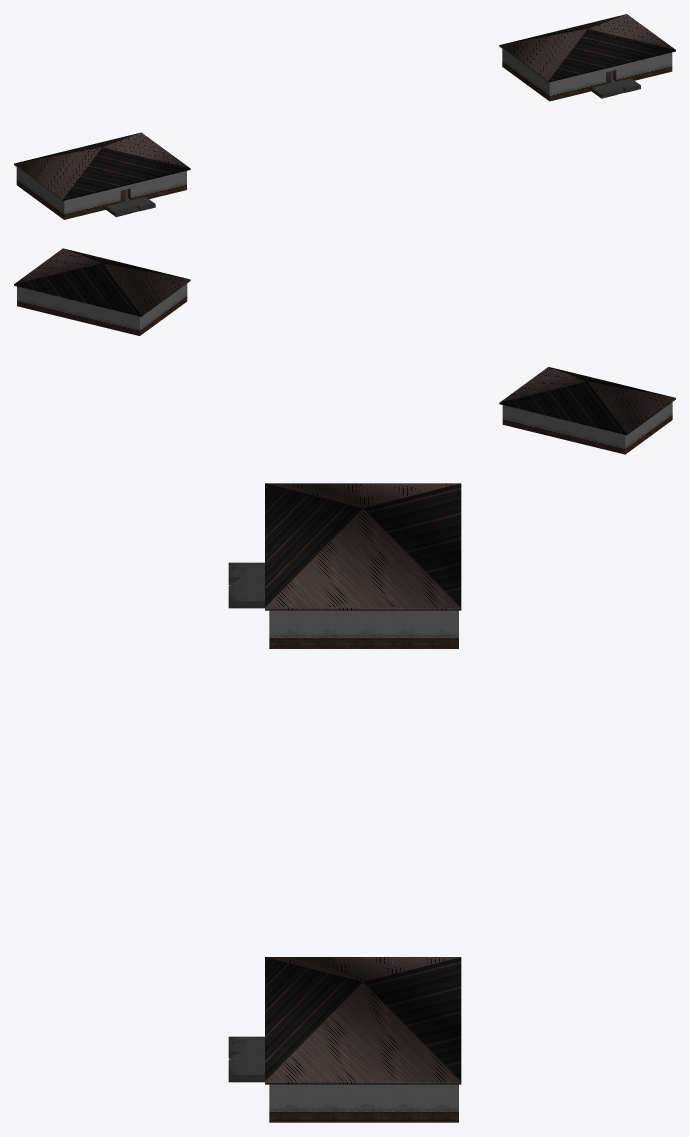
The model's file is Edificios04.fbx.
3 views of the same model, one above another, from view 1: azimuth 30°, elevation 25°; view 2: azimuth 150°, elevation 25°; view 3: azimuth 270°, elevation 25° (orthographic). The views are drawn at different scales.
Visible parts, largest first — view 1: Techo.002, Techo.001, Pared18, Pared18.001, Pared16, Pared16.001, Pared15, Pared15.001, Escaleras.004, Escaleras.005, Pared14.001, Pared14; view 2: Techo.001, Techo.002, Pared19.001, Pared19, Pared18, Pared18.001; view 3: Techo.001, Techo.002, Pared17, Pared17.001, Escaleras.004, Escaleras.005.
Part boxes in pixels (left/top/right/bottom): Techo.002: left=14, top=132, right=190, bottom=200; Techo.001: left=499, top=14, right=675, bottom=82; Pared18: left=502, top=49, right=550, bottom=101; Pared18.001: left=17, top=168, right=64, bottom=219; Pared16: left=550, top=72, right=591, bottom=100; Pared16.001: left=65, top=190, right=105, bottom=219; Pared15: left=631, top=52, right=671, bottom=80; Pared15.001: left=145, top=171, right=185, bottom=199; Escaleras.004: left=591, top=78, right=640, bottom=98; Escaleras.005: left=105, top=196, right=155, bottom=216; Pared14.001: left=105, top=181, right=145, bottom=205; Pared14: left=591, top=62, right=630, bottom=87; Techo.001: left=14, top=248, right=190, bottom=316; Techo.002: left=499, top=367, right=675, bottom=435; Pared19.001: left=503, top=405, right=625, bottom=454; Pared19: left=18, top=287, right=140, bottom=335; Pared18: left=140, top=283, right=187, bottom=335; Pared18.001: left=625, top=402, right=672, bottom=453; Techo.001: left=265, top=957, right=461, bottom=1084; Techo.002: left=265, top=483, right=461, bottom=610; Pared17: left=269, top=1084, right=458, bottom=1122; Pared17.001: left=269, top=610, right=458, bottom=648; Escaleras.004: left=228, top=1036, right=264, bottom=1082; Escaleras.005: left=228, top=562, right=264, bottom=608.
Size of the model in its own units: 51418 by 3247 by 8442.
14 materials, 14 textured.
